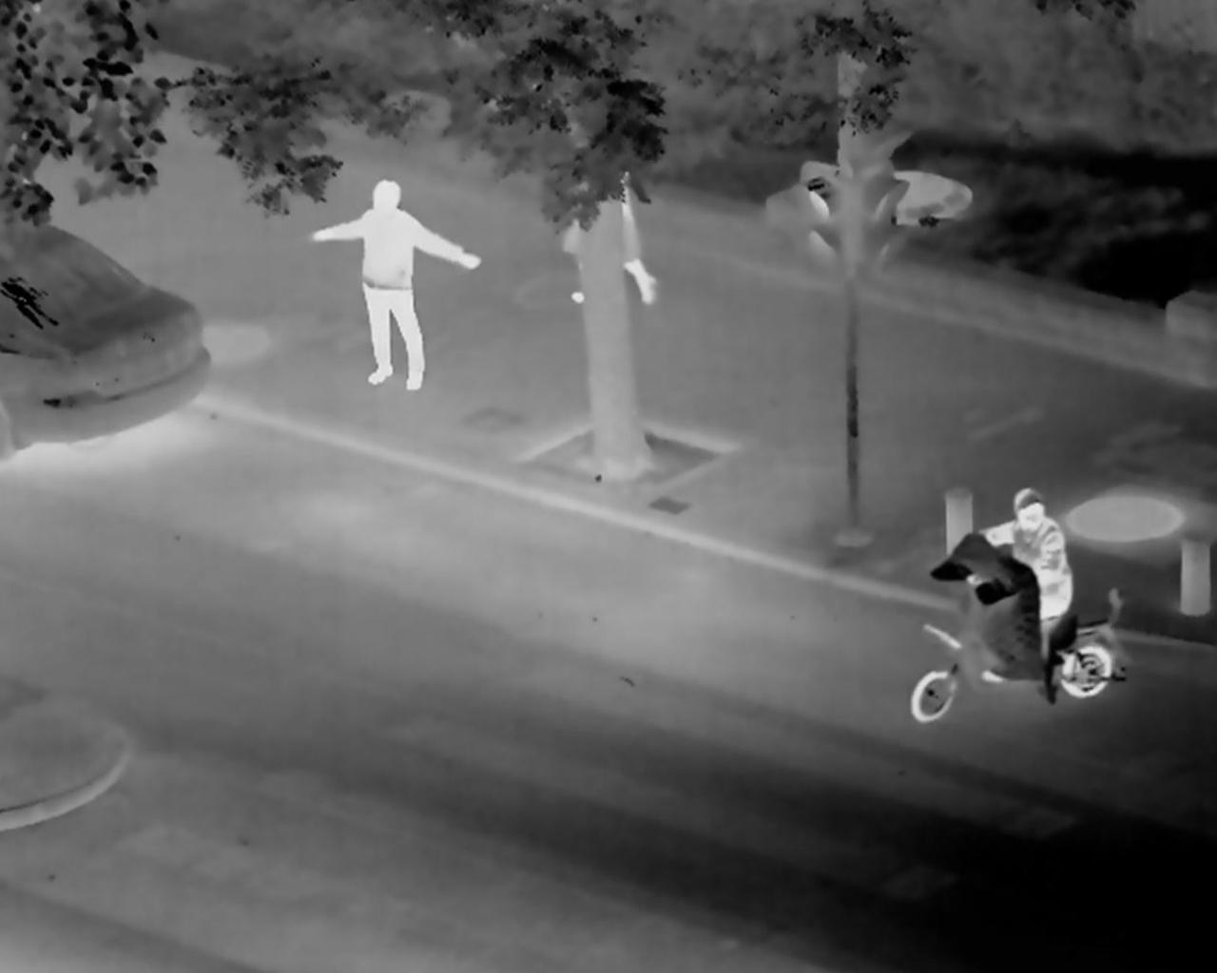person: (302, 168, 456, 401), (999, 486, 1078, 664)
